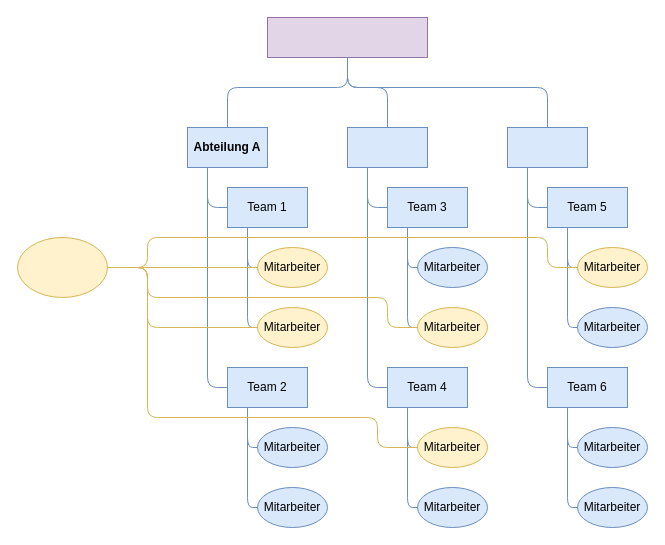
Image size: 665x545. Some labels were removed from this diagram. Each missing label, with the box of its shape:
Abteilung B: (346, 126, 428, 168)
Abteilung C: (506, 126, 588, 168)
Projektleiter: (16, 236, 108, 298)
Unternehmensleitung: (266, 16, 428, 58)
